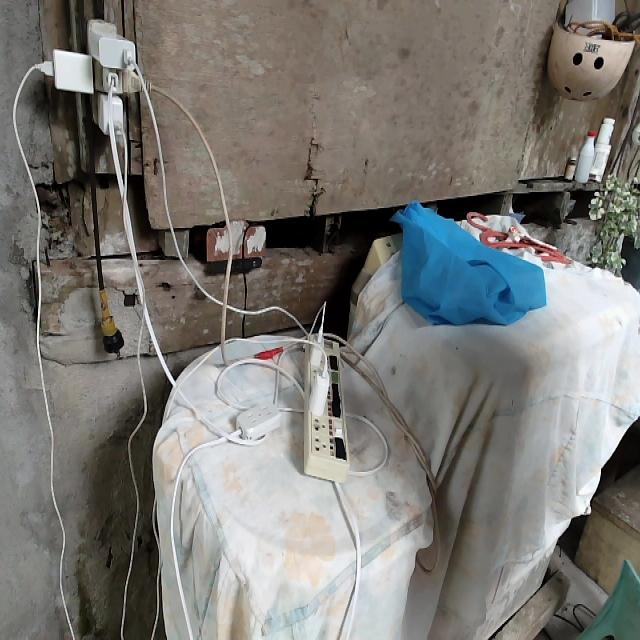-: (39, 15, 148, 138)
